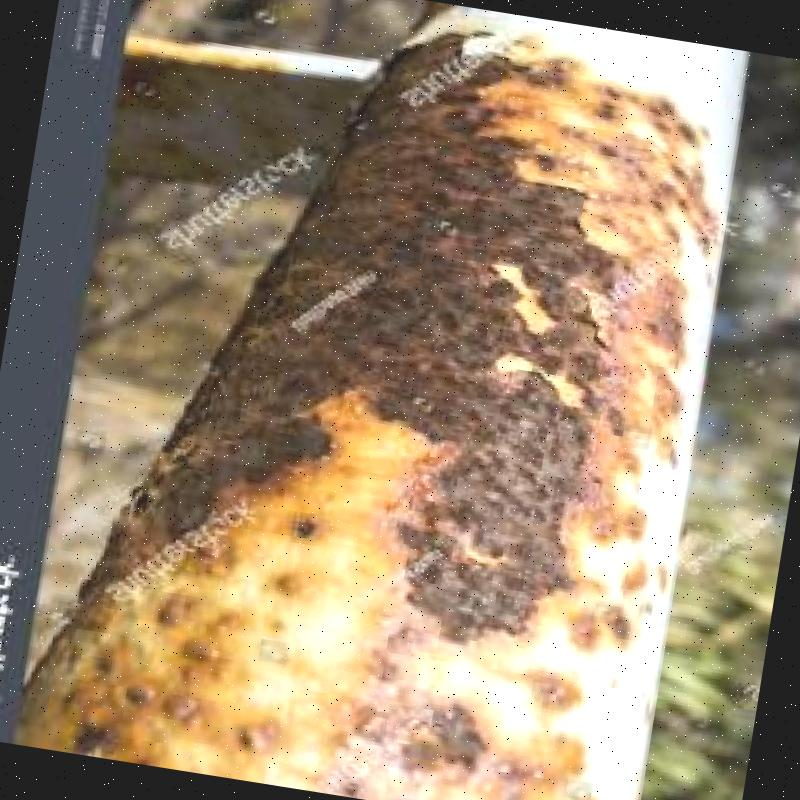corrosion: (263, 45, 688, 800), (191, 243, 324, 536)
